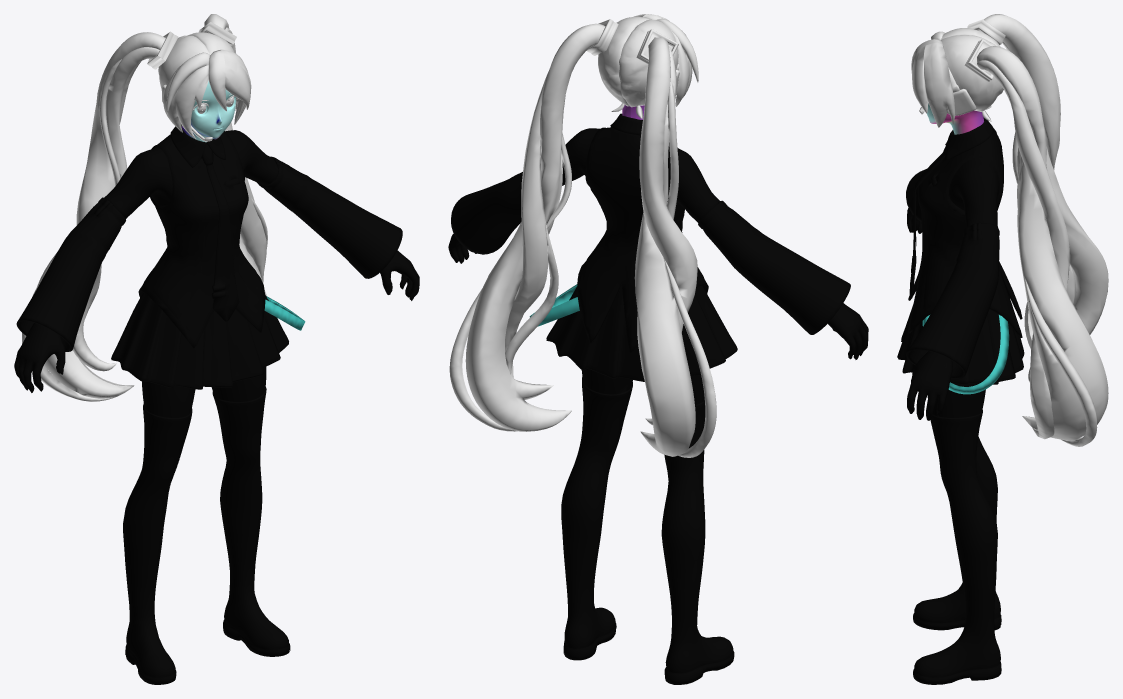
File: Hatsune Miku Fornite.fbx
3 renders of one model, left to right at view 1: azimuth 30°, elevation 25°; view 2: azimuth 150°, elevation 25°; view 3: azimuth 270°, elevation 25°, orthographic. The views are drawn at different scales.
Visible parts, largest first — view 1: F_MED_JadeTowelGloss_LOD0.001, F_MED_JadeTowelGloss_LOD0, F_MED_JadeTowelGloss_LOD0.002; view 2: F_MED_JadeTowelGloss_LOD0.001, F_MED_JadeTowelGloss_LOD0; view 3: F_MED_JadeTowelGloss_LOD0.001, F_MED_JadeTowelGloss_LOD0, F_MED_JadeTowelGloss_LOD0.002.
Boxes of the visible parts, x1,y1,x2,y2 form: F_MED_JadeTowelGloss_LOD0.001: [14, 124, 419, 684]; F_MED_JadeTowelGloss_LOD0: [22, 14, 267, 401]; F_MED_JadeTowelGloss_LOD0.002: [181, 81, 238, 142]; F_MED_JadeTowelGloss_LOD0.001: [448, 113, 868, 684]; F_MED_JadeTowelGloss_LOD0: [449, 14, 716, 457]; F_MED_JadeTowelGloss_LOD0.001: [897, 117, 1024, 684]; F_MED_JadeTowelGloss_LOD0: [911, 14, 1108, 446]; F_MED_JadeTowelGloss_LOD0.002: [926, 103, 983, 134].
Bounding box in the file's own units: 115 × 171 × 52.84.
